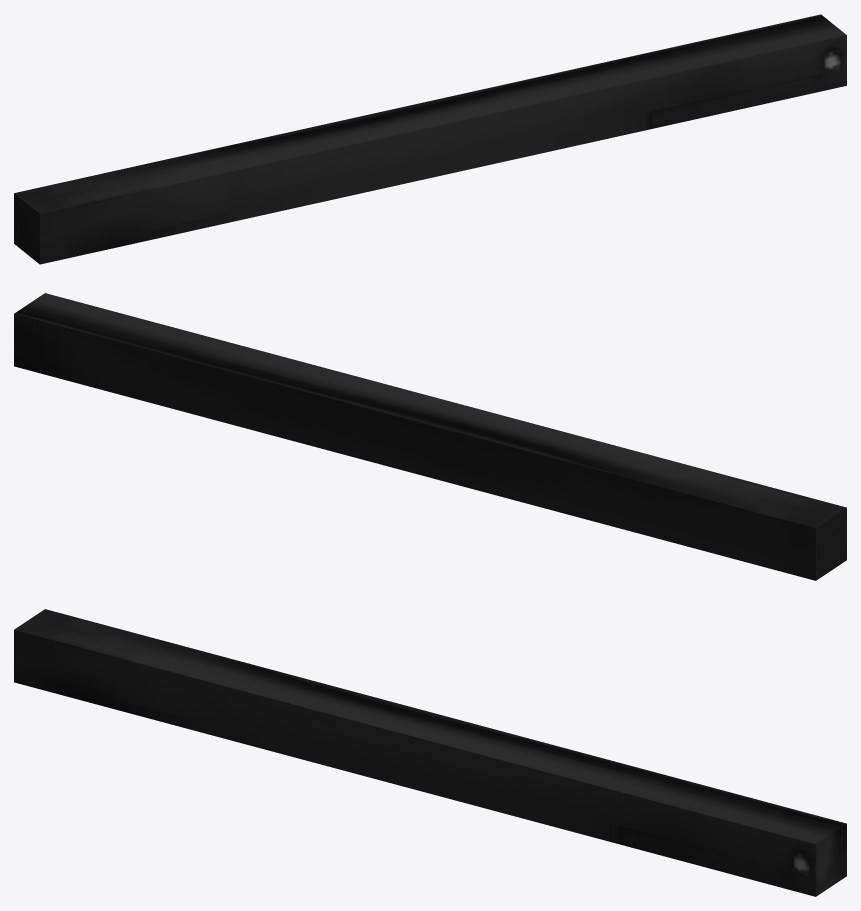
The model's file is frame__side_rail_1.glb.
3 renders of one model, top to bottom at view 1: azimuth 30°, elevation 25°; view 2: azimuth 150°, elevation 25°; view 3: azimuth 330°, elevation 25°, orthographic. The views are drawn at different scales.
Visible parts, largest first — view 1: world; view 2: world; view 3: world.
Boxes of the visible parts, bbox=[...] form: world: bbox=[14, 14, 846, 264]; world: bbox=[14, 293, 846, 580]; world: bbox=[14, 609, 846, 896].
Bounding box in the file's own units: 0.9824 × 0.06 × 0.1.
Materials: 1 (1 with a texture image).
